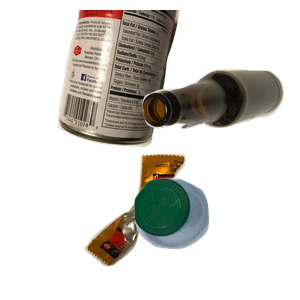glass: (140, 67, 300, 188)
metal: (55, 10, 227, 149)
plastic: (132, 176, 300, 300)
trash: (82, 151, 260, 300)
